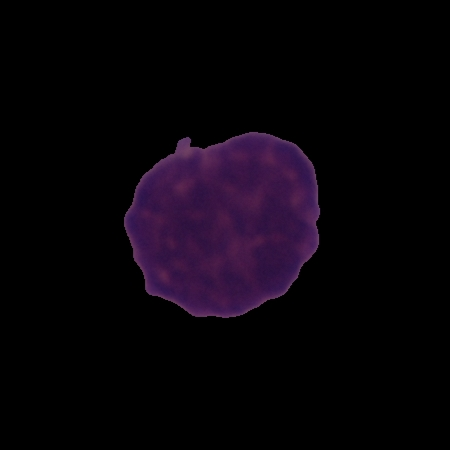HEM: (119, 128, 324, 322)
